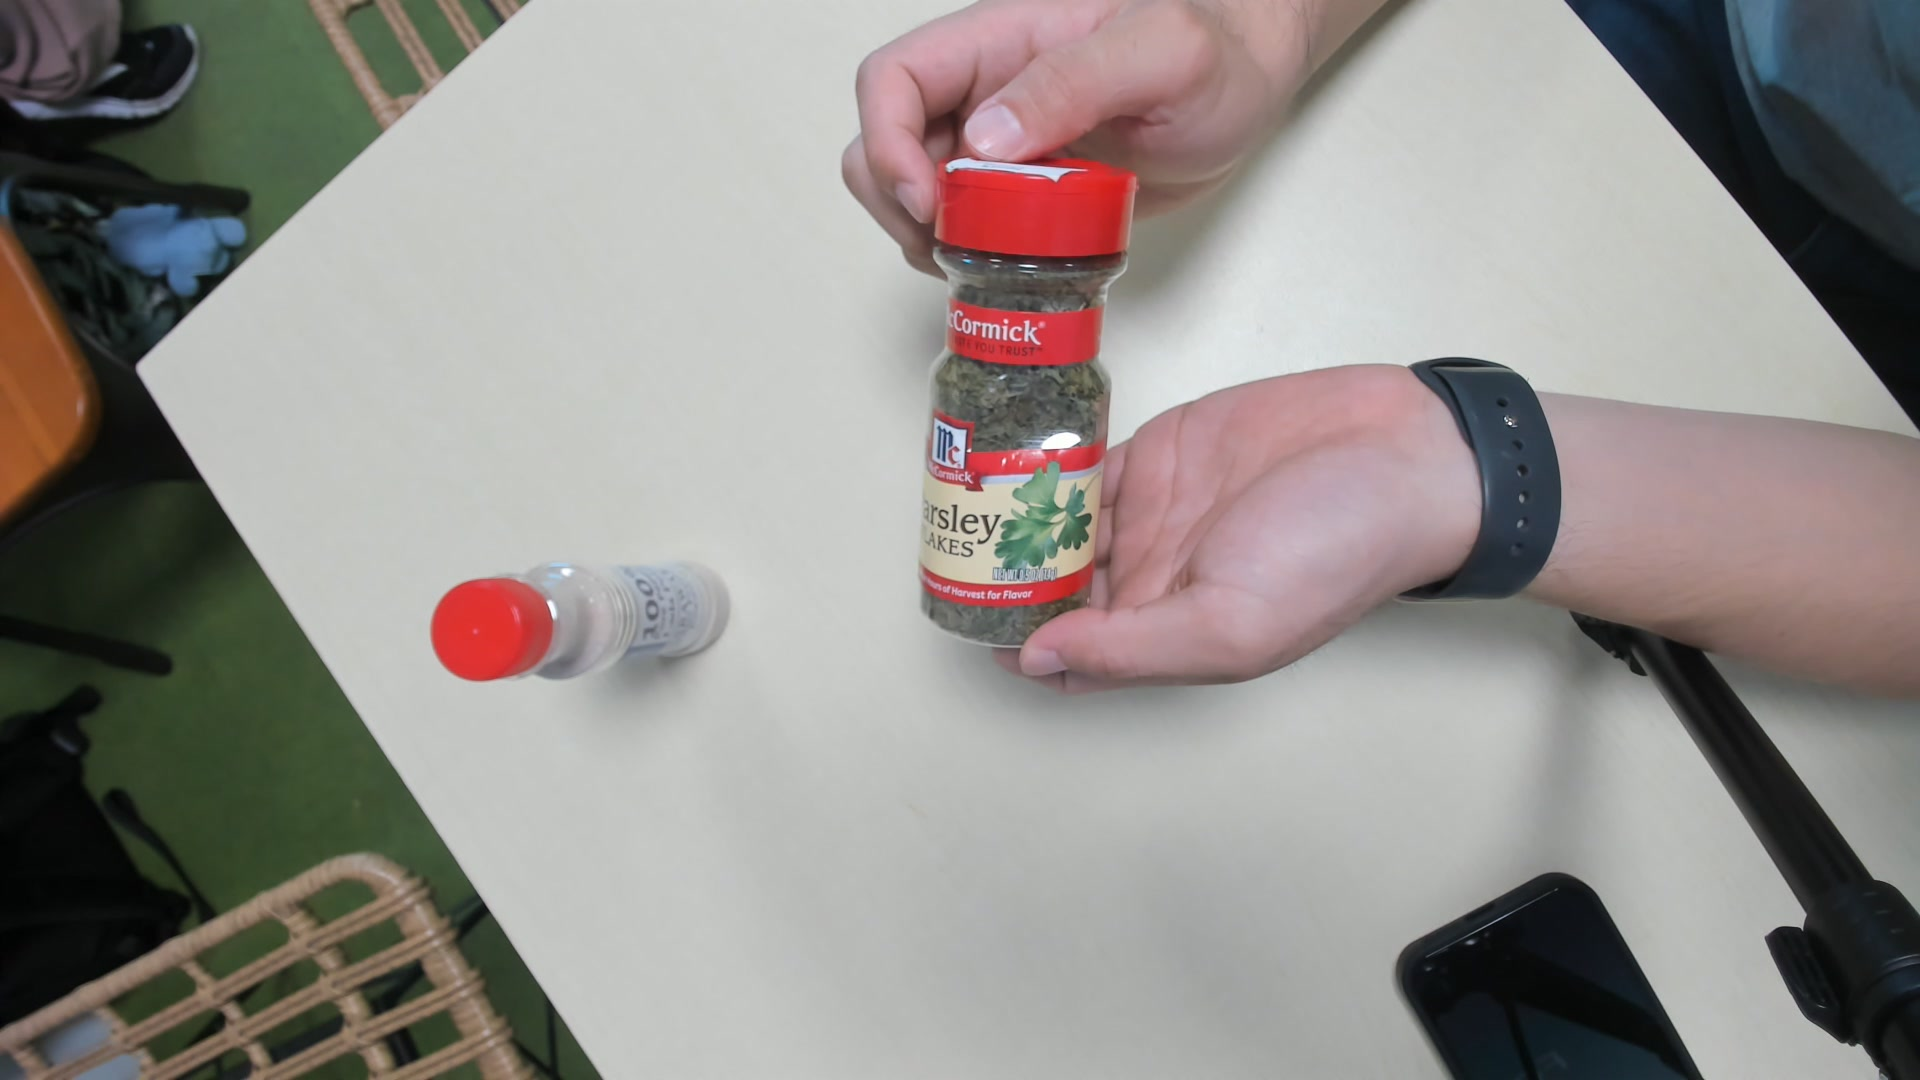HerbsSpicesPepper_0-99g_NonHalal_NonHealthy: (919, 156, 1133, 644)
